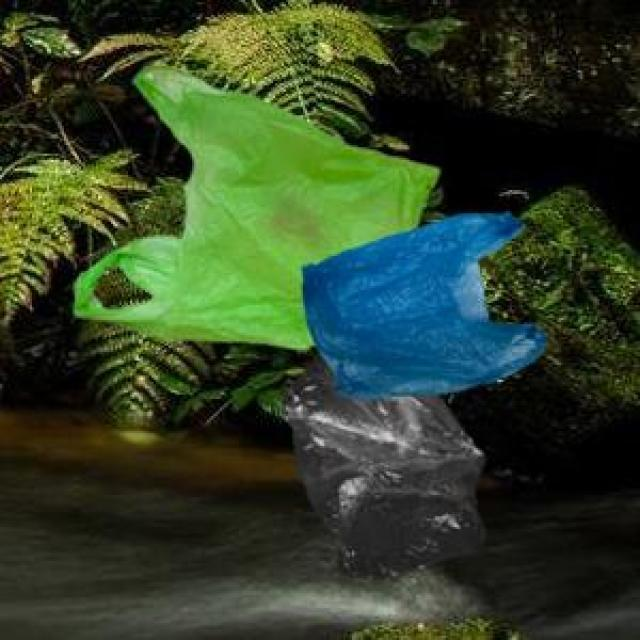waste: (75, 68, 544, 571)
